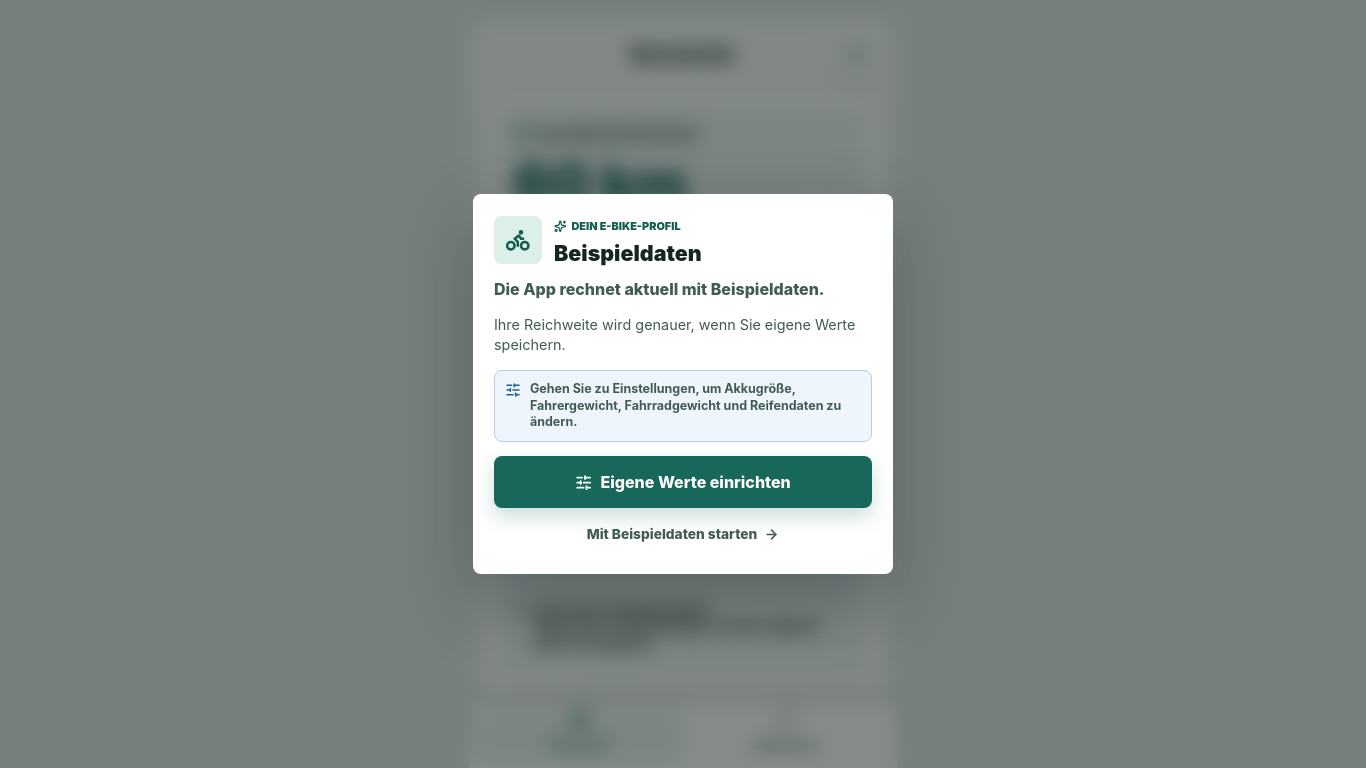
Test case: App › wechselt das Gelaende per Klickbutton
Step 1. Click the button "Mit Beispieldaten starten" → point(683, 534), box 494,515 -> 872,553
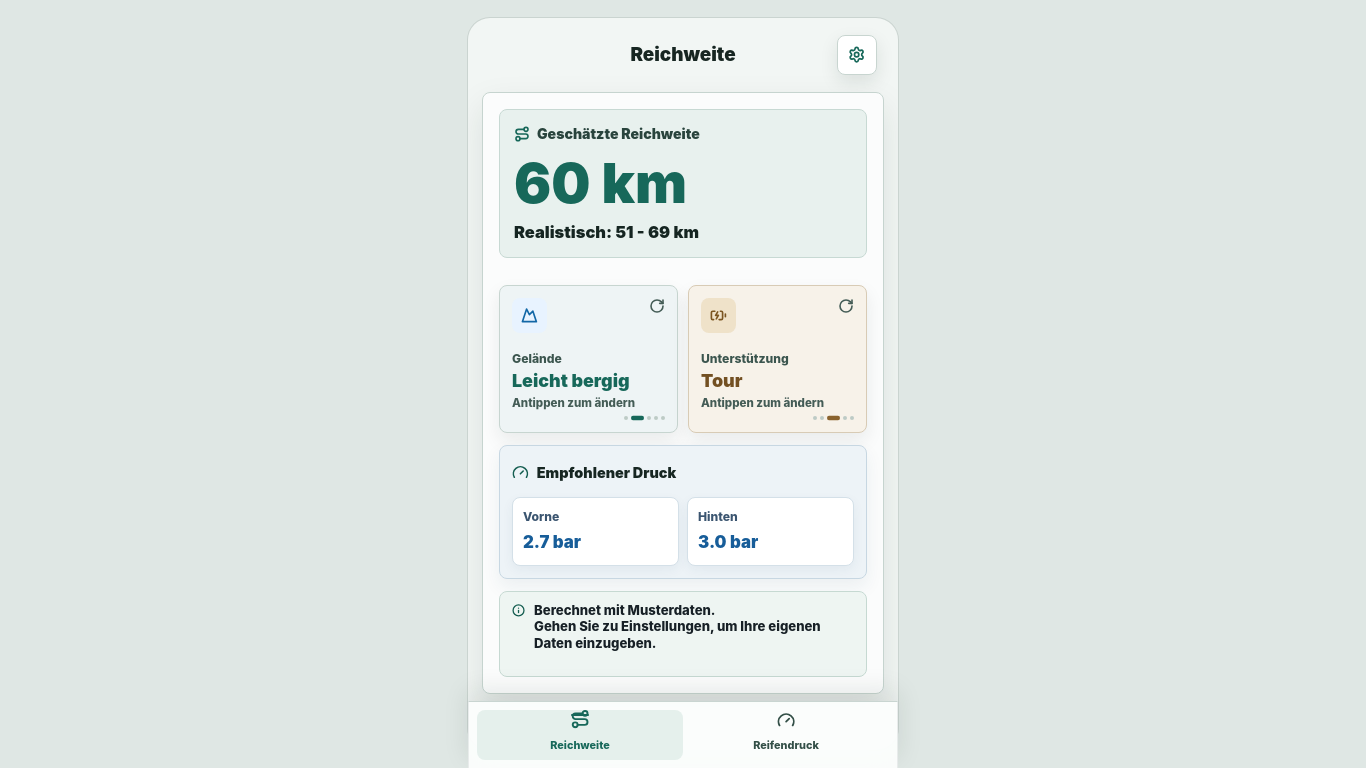
Step 2. Click the button with aria-label "Gelände: Leicht bergig" → point(588, 359), box 499,285 -> 678,433
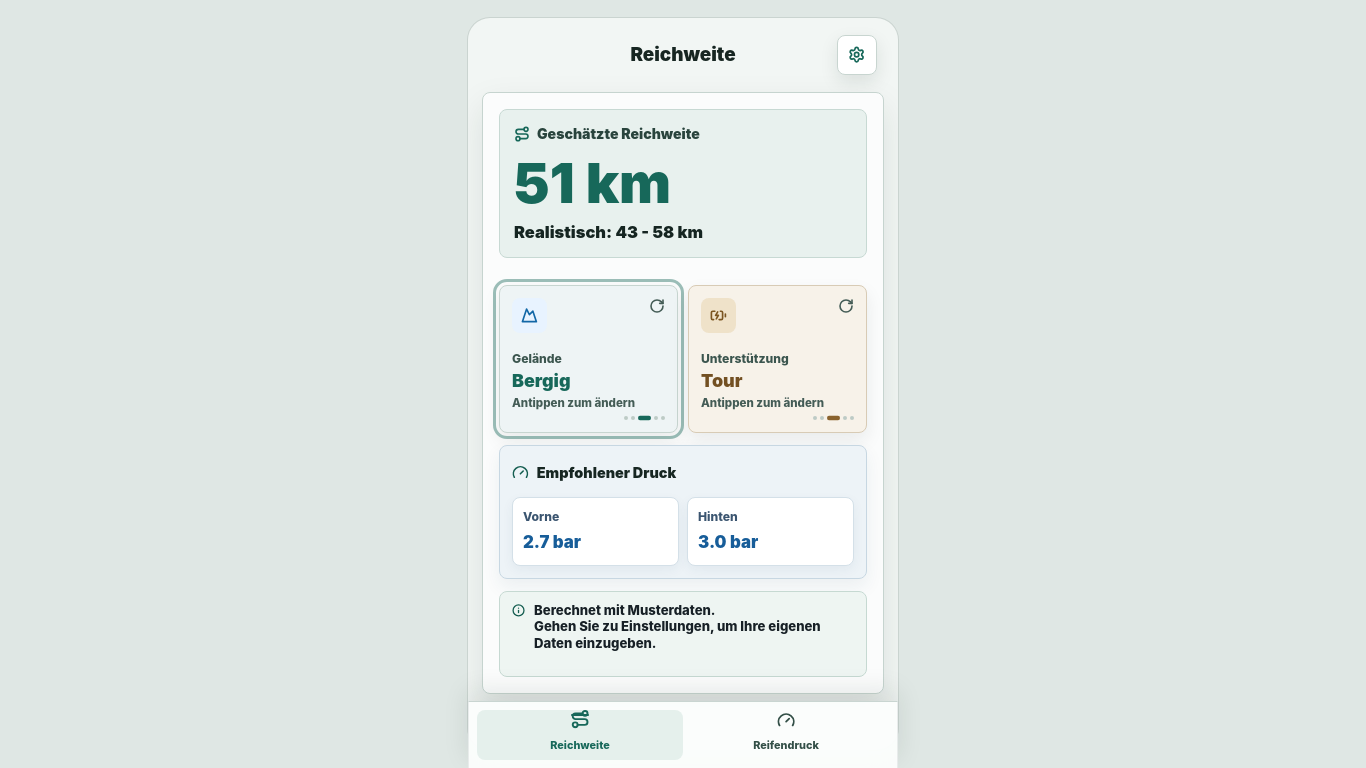
Result: the button with aria-label "Gelände: Bergig" is shown at 499,285 -> 678,433
